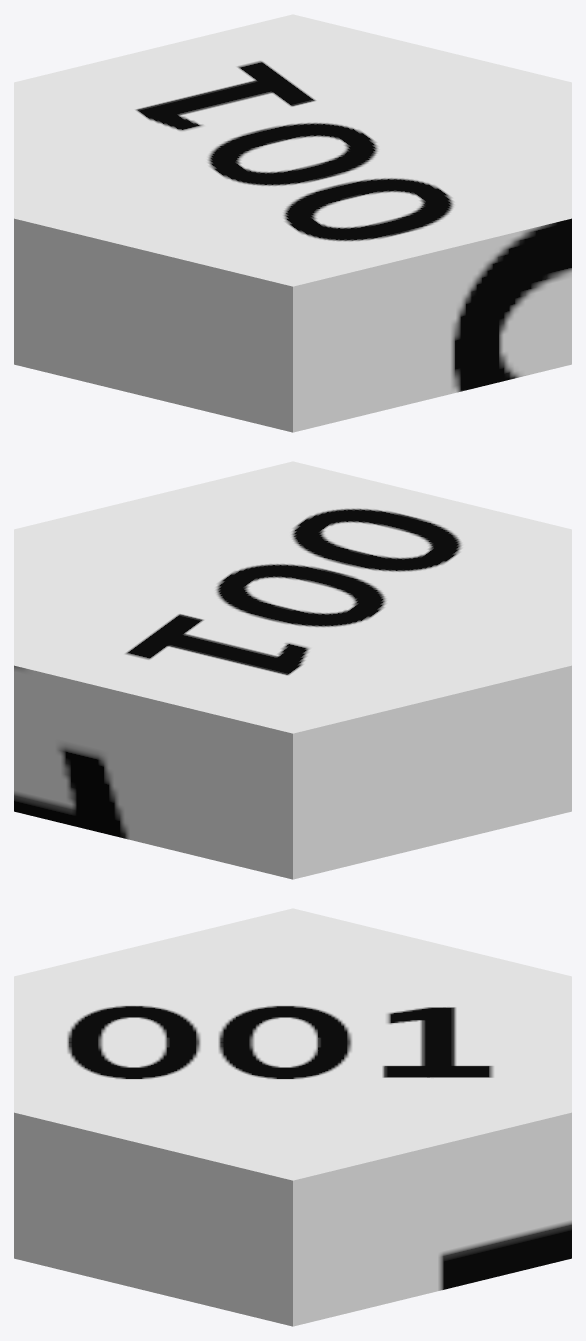
Rendered from hexagon.fbx.
3 renders of one model, top to bottom at view 1: azimuth 30°, elevation 25°; view 2: azimuth 150°, elevation 25°; view 3: azimuth 270°, elevation 25°, orthographic.
Visible parts, largest first — view 1: pCylinder1; view 2: pCylinder1; view 3: pCylinder1.
Boxes of the visible parts, x1,y1,x2,y2 form: pCylinder1: (14, 14, 571, 432); pCylinder1: (14, 461, 571, 879); pCylinder1: (14, 908, 571, 1326).
Bounding box in the file's own units: 2 × 0.5 × 1.73.
Materials: 1 (1 with a texture image).
